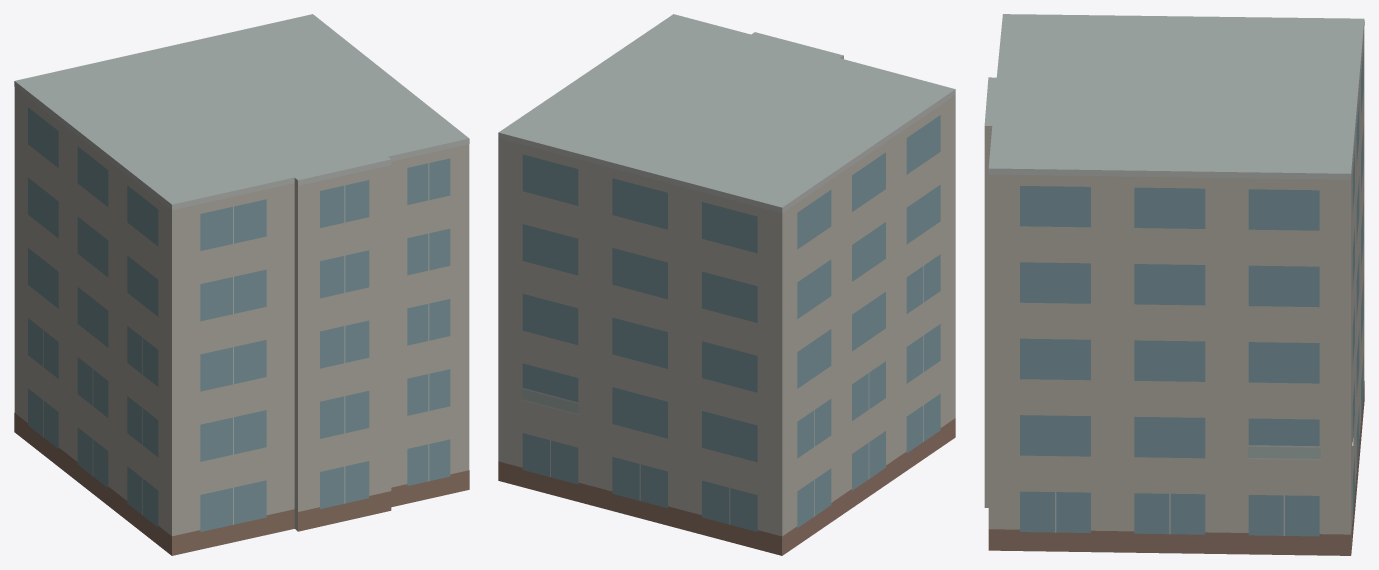
Rendered from survey-upis-32653414.glb.
3 views of the same model, side by side, from view 1: azimuth 30°, elevation 25°; view 2: azimuth 150°, elevation 25°; view 3: azimuth 270°, elevation 25° (orthographic). The views are drawn at different scales.
Parts seen in each view (by area): view 1: survey-upis-32653414.tmp; view 2: survey-upis-32653414.tmp; view 3: survey-upis-32653414.tmp.
Part boxes in pixels (x1,y1,x2,y2): survey-upis-32653414.tmp: [14, 14, 469, 555]; survey-upis-32653414.tmp: [498, 14, 955, 555]; survey-upis-32653414.tmp: [984, 14, 1364, 555].
Size of the model in its own units: 13.69 by 15.25 by 13.75.
